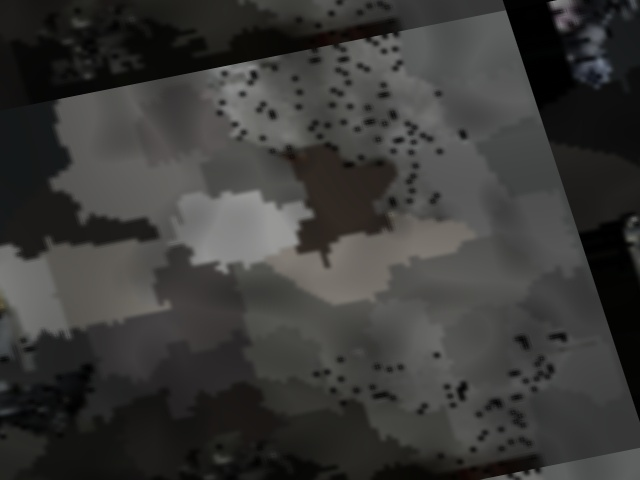one: (157, 192, 181, 231)
